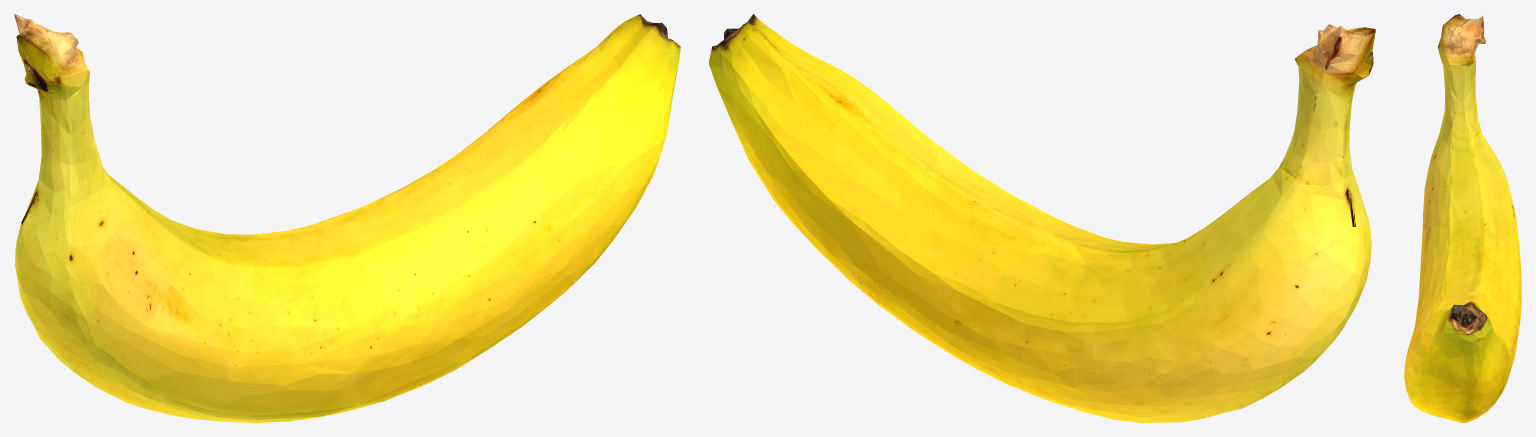
The model's file is threejs-banana.glb.
The picture shows the model from 3 angles, left to right: view 1: azimuth 30°, elevation 25°; view 2: azimuth 150°, elevation 25°; view 3: azimuth 270°, elevation 25°; orthographic projection. The views are drawn at different scales.
Parts seen in each view (by area): view 1: banana; view 2: banana; view 3: banana.
Boxes of the visible parts, bbox=[...] form: banana: bbox=[14, 14, 680, 422]; banana: bbox=[709, 14, 1375, 422]; banana: bbox=[1404, 14, 1521, 422].
Size of the model in its own units: 6.79 by 4.44 by 1.61.
Materials: 1 (1 with a texture image).
